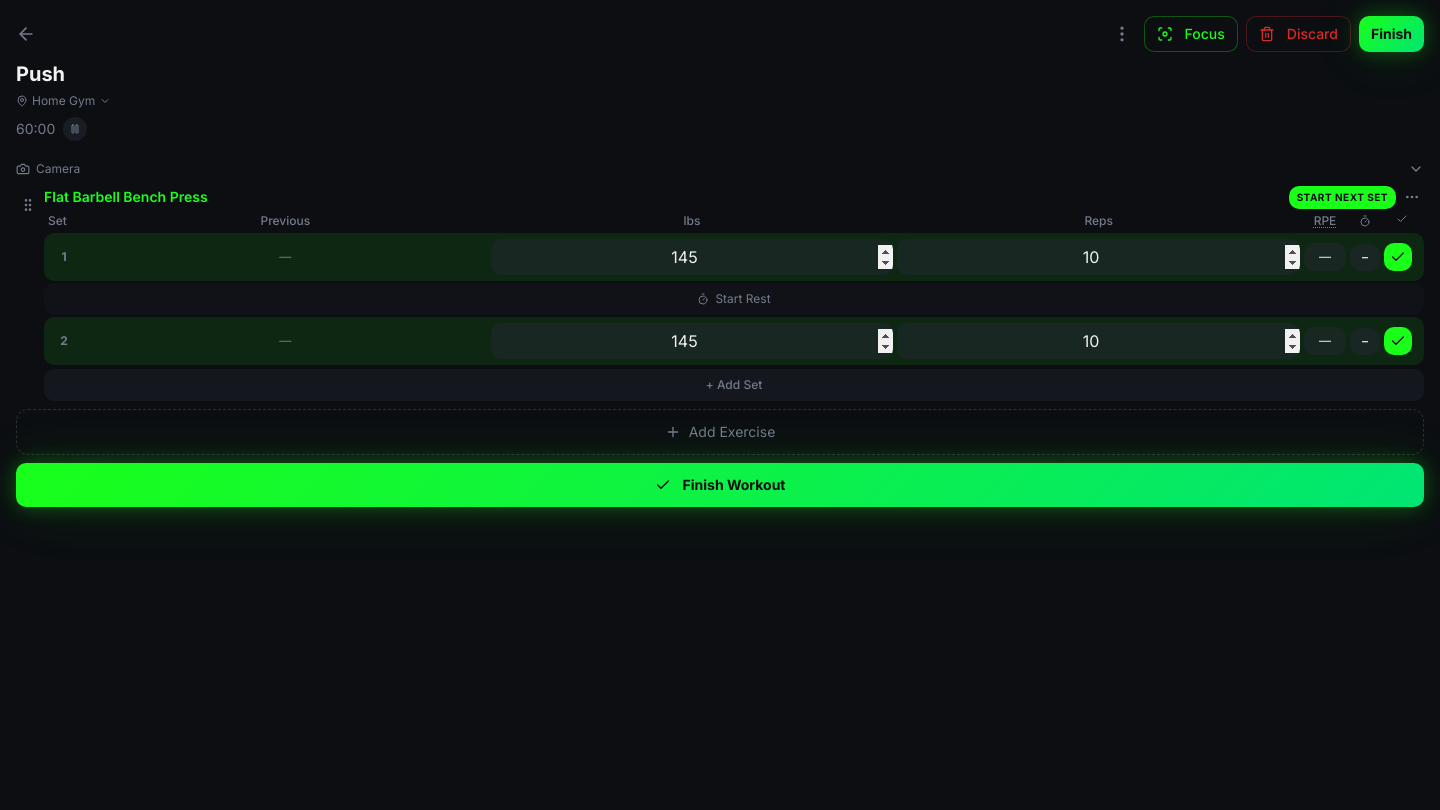
Test: update-template prompt at finish › offers the update for a session resumed after a reload
Click the button "Finish": (1391, 34) [1359,16,1424,52]
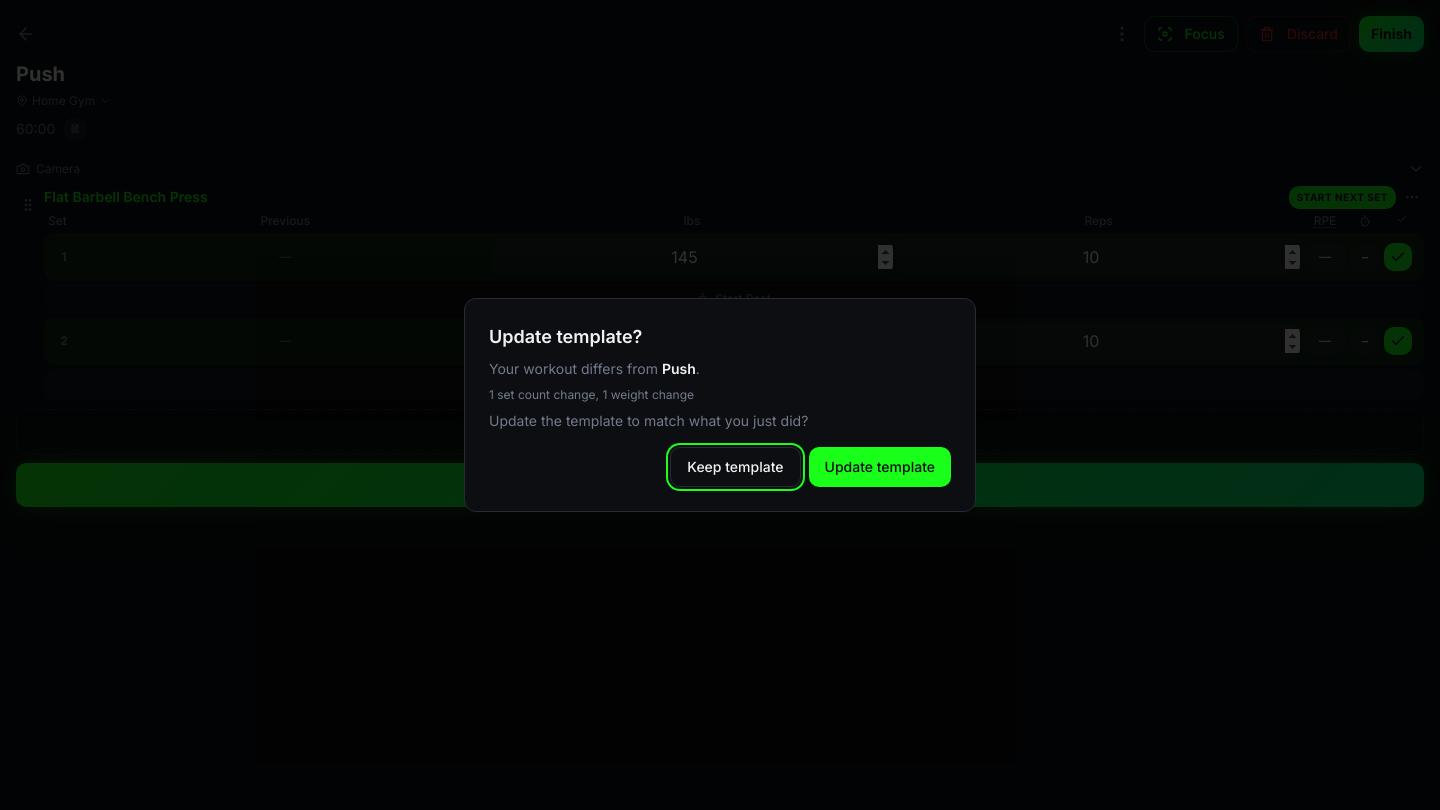
Result: the heading "Update template?" is shown at [489,326,642,347]
